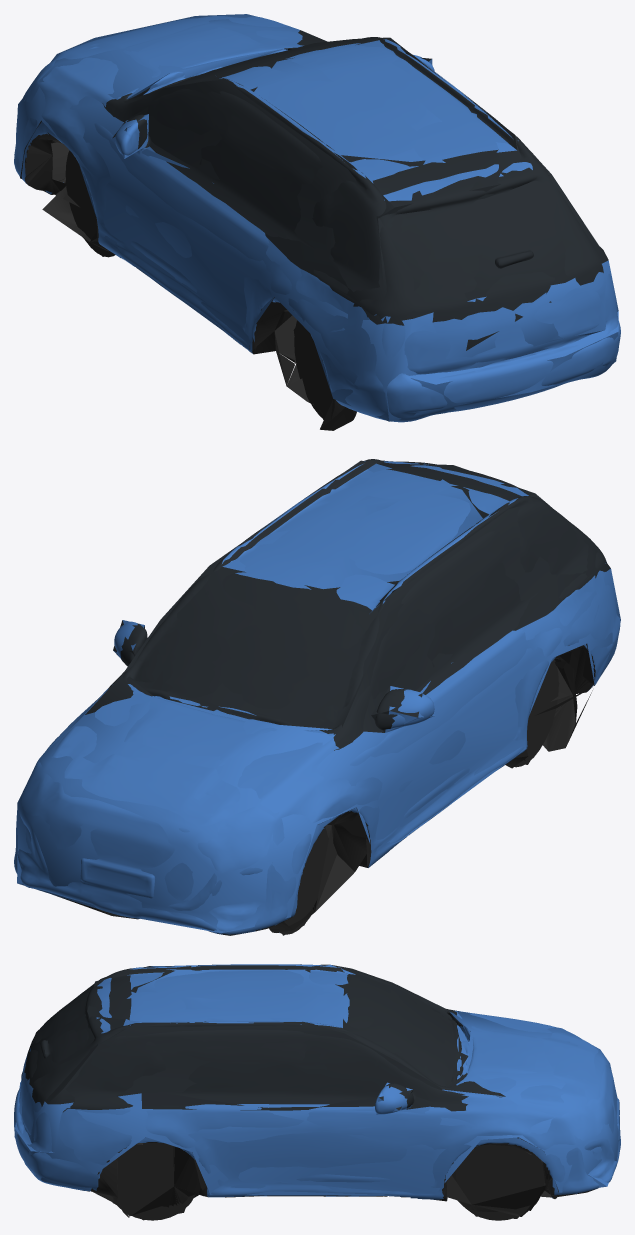
The model's file is audi-q7.glb.
3 renders of one model, top to bottom at view 1: azimuth 30°, elevation 25°; view 2: azimuth 150°, elevation 25°; view 3: azimuth 270°, elevation 25°, orthographic. The views are drawn at different scales.
Parts seen in each view (by area): view 1: body, far; view 2: body, far; view 3: body, far.
Part boxes in pixels (left/top/right/bottom): body: left=14, top=16, right=620, bottom=430; far: left=14, top=14, right=618, bottom=428; body: left=14, top=459, right=620, bottom=935; far: left=17, top=460, right=620, bottom=935; body: left=14, top=964, right=620, bottom=1220; far: left=14, top=964, right=618, bottom=1220.
Size of the model in its own units: 2.27 by 1.77 by 5.05.
